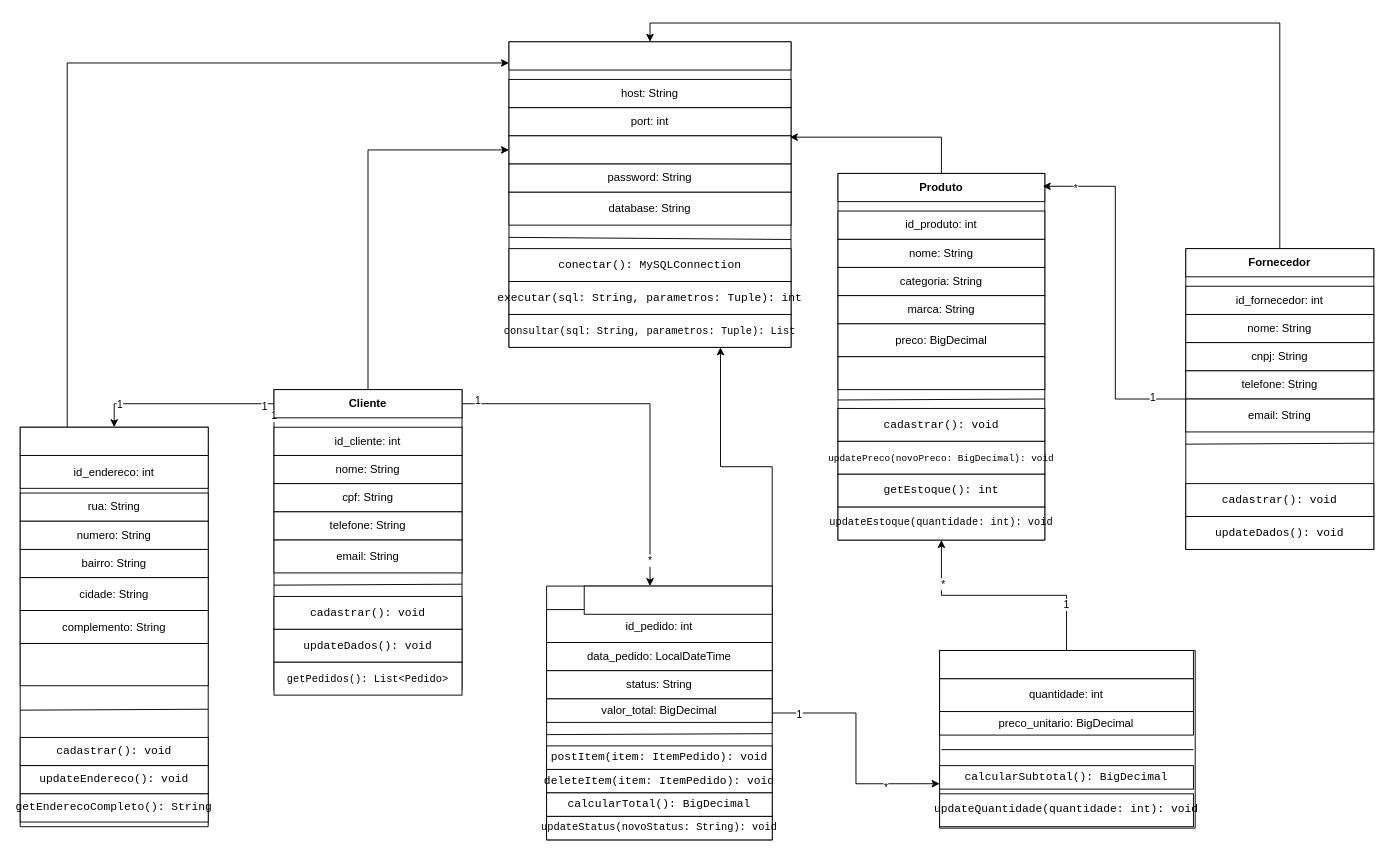
Some shapes in this 1391 by 863 pixel diagram are drawn without their labels. The shapes that lost their labels are listed below. From the top down, each one's centre as x and y in pixels, then its label:
At point (649, 55): "Conexao".
At point (649, 149): "user: String".
At point (941, 373): "estoque: int".
At point (113, 440): "Endereco".
At point (677, 599): "Pedido".
At point (113, 664): "cep: String".
At point (1066, 664): "ItemPedido".
